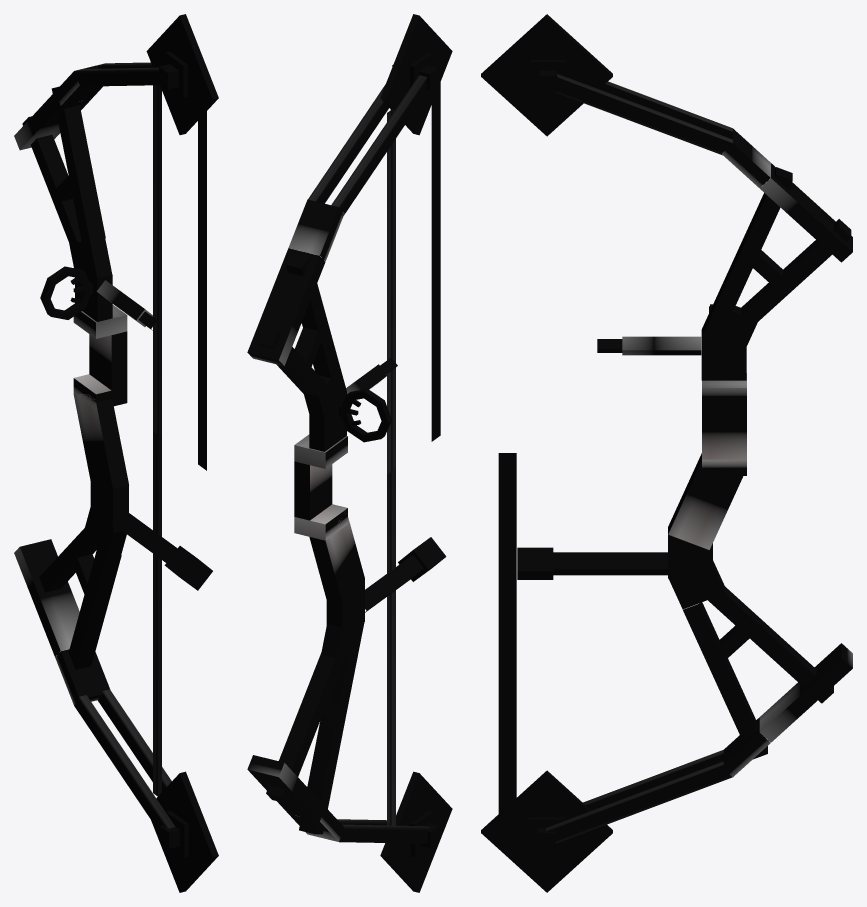
The model's file is jeg_compound_bow.glb.
The picture shows the model from 3 angles, left to right: view 1: azimuth 30°, elevation 25°; view 2: azimuth 150°, elevation 25°; view 3: azimuth 270°, elevation 25°; orthographic projection.
Parts seen in each view (by area): view 1: Gun; view 2: Gun; view 3: Gun.
Boxes of the visible parts, x1,y1,x2,y2 form: Gun: [14, 14, 218, 892]; Gun: [247, 14, 452, 892]; Gun: [481, 14, 852, 892].
Bounding box in the file's own units: 0.1272 × 1.35 × 0.5178.
Materials: 1 (1 with a texture image).
